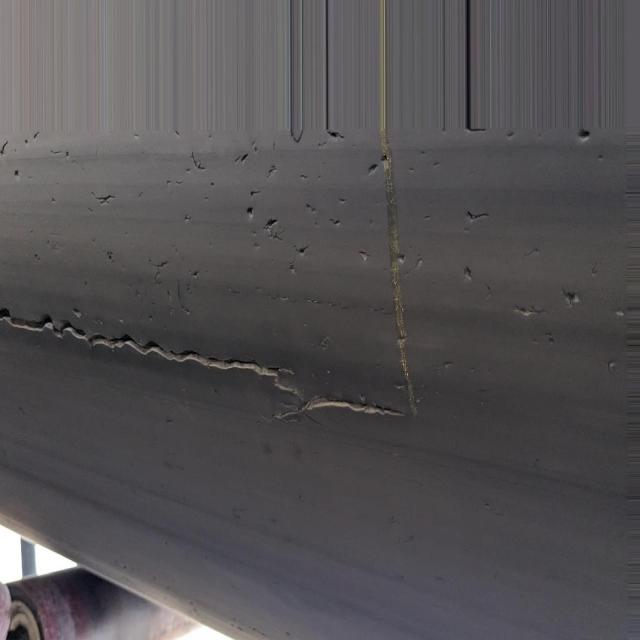Puncture: (217, 141, 380, 275), (458, 190, 494, 299), (543, 267, 596, 318), (570, 116, 601, 146)
Tear: (0, 2, 422, 428)
